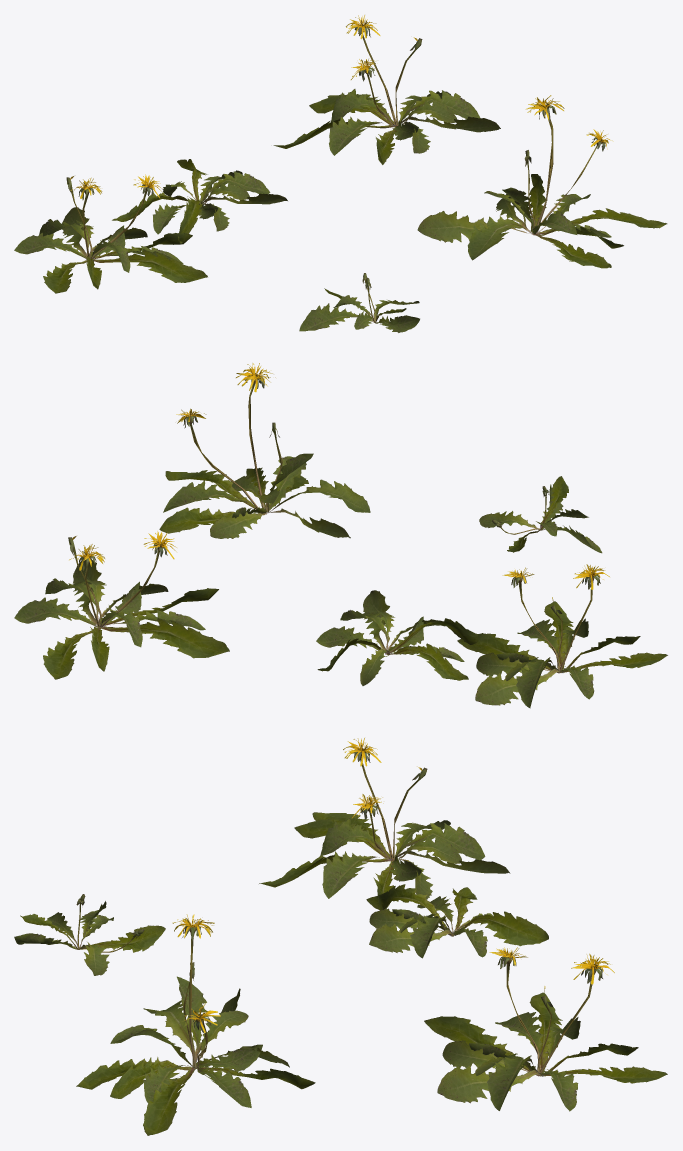
Rendered from Scan_Dandelions_B.fbx.
The picture shows the model from 3 angles, top to bottom: view 1: azimuth 30°, elevation 25°; view 2: azimuth 150°, elevation 25°; view 3: azimuth 270°, elevation 25°; orthographic projection. The views are drawn at different scales.
Parts seen in each view (by area): view 1: Scan_Dandelions_B_LOD0; view 2: Scan_Dandelions_B_LOD0; view 3: Scan_Dandelions_B_LOD0.
Part boxes in pixels (box(x1,y1,x2,y2)): Scan_Dandelions_B_LOD0: box(14, 15, 667, 332); Scan_Dandelions_B_LOD0: box(14, 363, 667, 708); Scan_Dandelions_B_LOD0: box(14, 738, 667, 1135).
Size of what is drawn, in the model's own units: 0.8348 by 0.2121 by 0.7418.
